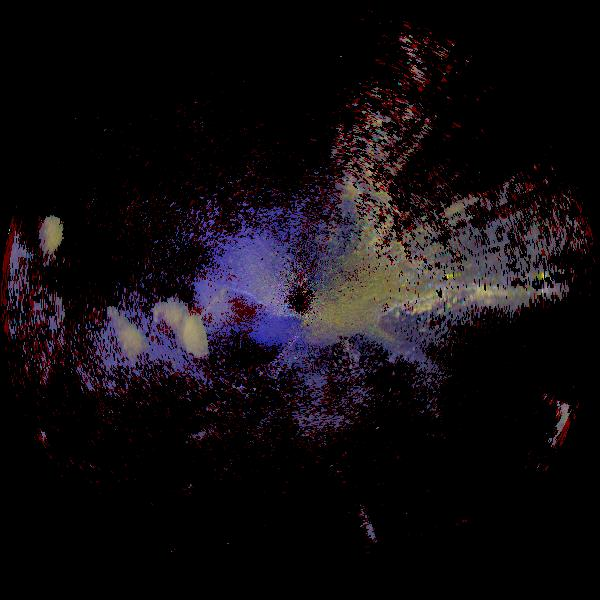roost: (78, 277, 240, 439), (33, 289, 180, 436)
